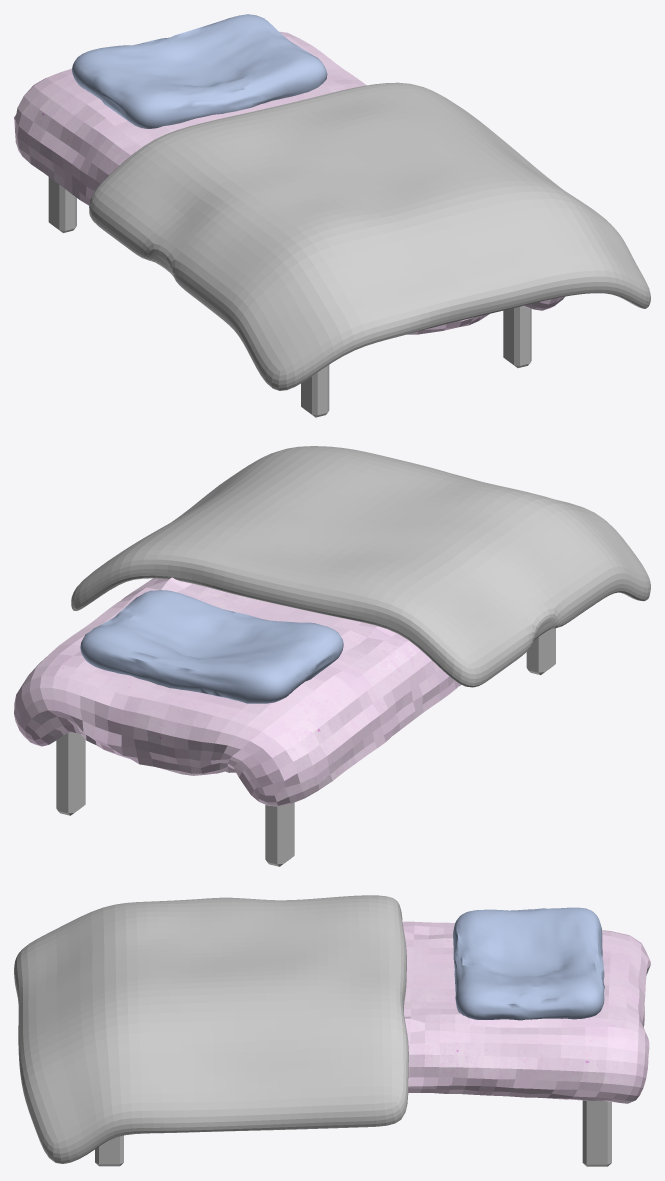
The model's file is bed.fbx.
3 views of the same model, one above another, from view 1: azimuth 30°, elevation 25°; view 2: azimuth 150°, elevation 25°; view 3: azimuth 270°, elevation 25° (orthographic). The views are drawn at different scales.
Parts seen in each view (by area): view 1: blanket, pillow, sheet, wood frame; view 2: blanket, sheet, pillow, wood frame; view 3: blanket, sheet, pillow, wood frame.
Boxes of the visible parts, x1,y1,x2,y2 form: blanket: (89,82,650,390); pillow: (72,14,327,128); sheet: (14,31,564,334); wood frame: (48,177,531,417); blanket: (71,446,650,687); sheet: (14,577,461,806); pillow: (80,590,343,703); wood frame: (56,628,555,866); blanket: (14,895,408,1163); sheet: (402,921,650,1103); pillow: (453,907,604,1020); wood frame: (95,1100,611,1166).
Bounding box in the file's own units: 162 × 70.08 × 234.
